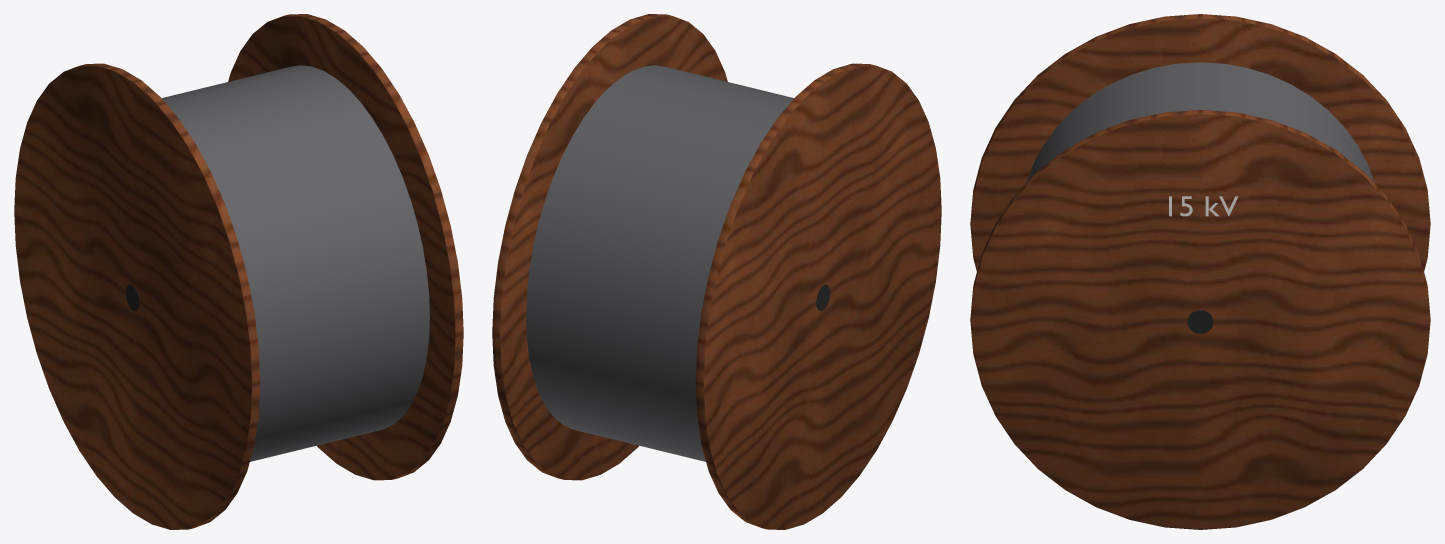
File: ELE-FIO-009_lod1.glb
The picture shows the model from 3 angles, left to right: view 1: azimuth 30°, elevation 25°; view 2: azimuth 150°, elevation 25°; view 3: azimuth 270°, elevation 25°; orthographic projection. The views are drawn at different scales.
Parts seen in each view (by area): view 1: ELE-FIO-009_flange-1, ELE-FIO-009_cabo, ELE-FIO-009_flange1; view 2: ELE-FIO-009_flange-1, ELE-FIO-009_cabo, ELE-FIO-009_flange1; view 3: ELE-FIO-009_flange1, ELE-FIO-009_flange-1, ELE-FIO-009_cabo.
Part boxes in pixels (x1,y1,x2,y2): ELE-FIO-009_flange-1: [14, 63, 260, 529]; ELE-FIO-009_cabo: [161, 65, 429, 461]; ELE-FIO-009_flange1: [228, 14, 463, 480]; ELE-FIO-009_flange-1: [695, 63, 941, 529]; ELE-FIO-009_cabo: [526, 65, 794, 461]; ELE-FIO-009_flange1: [492, 14, 727, 480]; ELE-FIO-009_flange1: [970, 110, 1430, 529]; ELE-FIO-009_flange-1: [970, 14, 1430, 271]; ELE-FIO-009_cabo: [1026, 62, 1374, 182].
Size of the model in its own units: 0.722 by 1.4 by 1.4.
4 materials, 1 textured.
